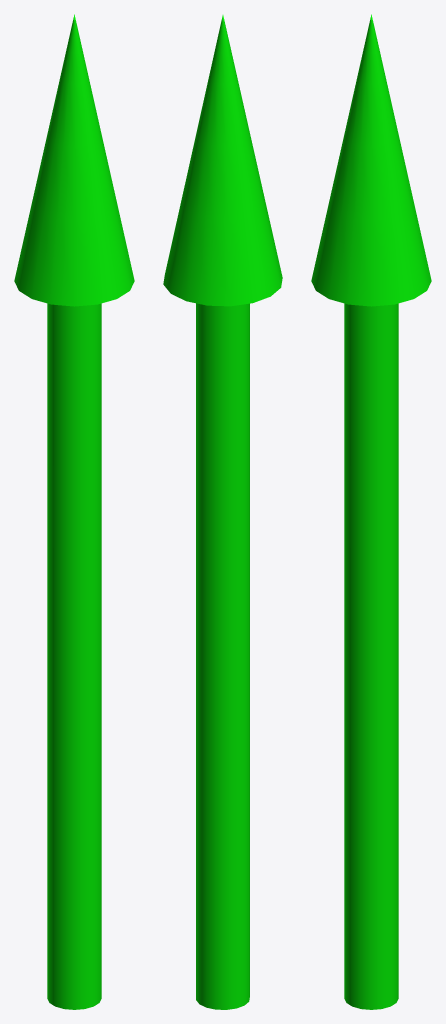
File: arrowY.glb
3 views of the same model, side by side, from view 1: azimuth 90°, elevation 25°; view 2: azimuth 210°, elevation 25°; view 3: azimuth 270°, elevation 25° (orthographic).
Visible parts, largest first — view 1: hires.001; view 2: hires.001; view 3: hires.001.
Boxes of the visible parts, x1,y1,x2,y2 form: hires.001: [14, 14, 134, 1009]; hires.001: [163, 15, 282, 1009]; hires.001: [311, 14, 431, 1009].
Bounding box in the file's own units: 0.1108 × 1 × 0.1108.
